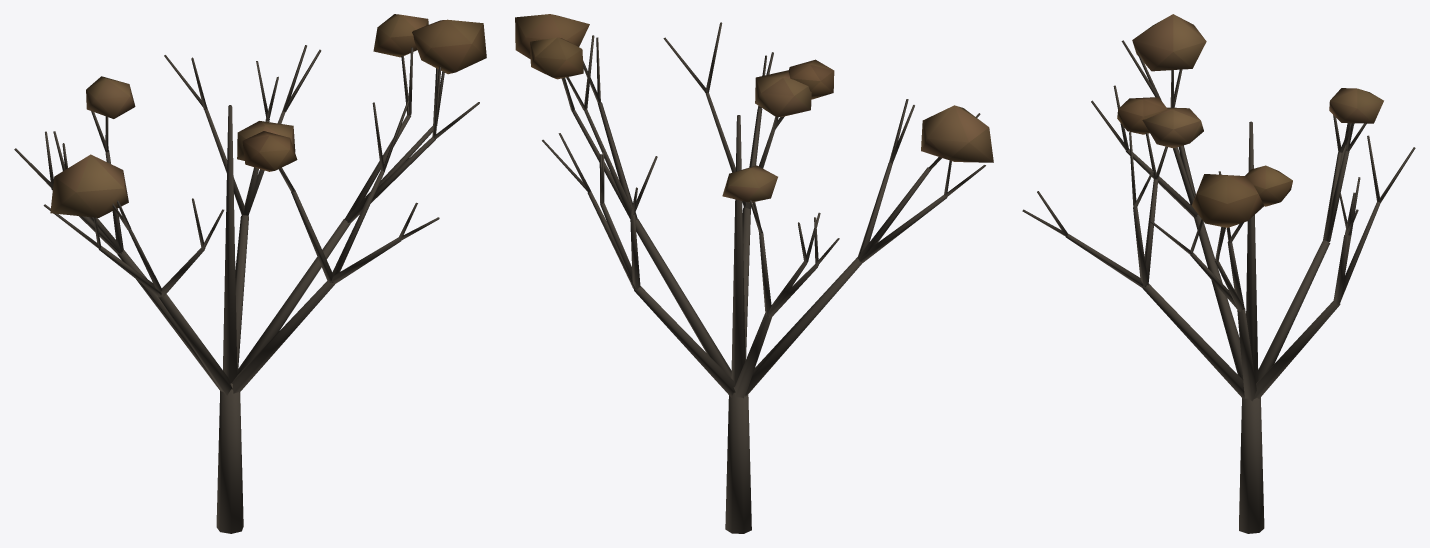
The model's file is env_oak_a_win.glb.
3 renders of one model, left to right at view 1: azimuth 30°, elevation 25°; view 2: azimuth 150°, elevation 25°; view 3: azimuth 270°, elevation 25°, orthographic. The views are drawn at different scales.
Visible parts, largest first — view 1: env_oak_a_win; view 2: env_oak_a_win; view 3: env_oak_a_win.
Boxes of the visible parts, x1=… form: env_oak_a_win: x1=14, y1=14, x2=486, y2=533; env_oak_a_win: x1=515, y1=14, x2=993, y2=533; env_oak_a_win: x1=1022, y1=14, x2=1415, y2=533.
Bounding box in the file's own units: 16.01 × 15.49 × 12.29.
